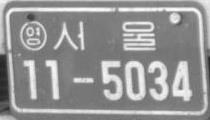-: (72, 74, 95, 87)
0: (123, 59, 146, 101)
1: (43, 59, 69, 99), (19, 59, 43, 99)
3: (146, 59, 170, 101)
4: (170, 60, 193, 102)
5: (100, 59, 124, 101)
서울_D: (52, 19, 157, 51)
영: (19, 20, 47, 52)
